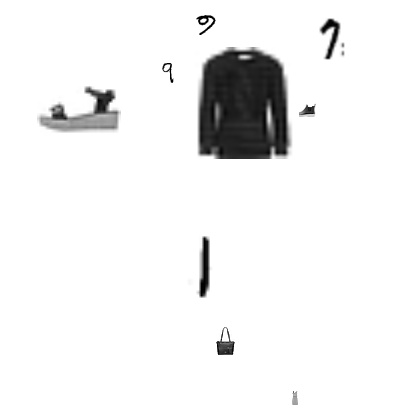1: (161, 225, 245, 309)
7: (302, 7, 358, 63)
9: (191, 8, 219, 36), (154, 57, 182, 85)
Ankle_boot: (294, 99, 316, 121)
Bag: (211, 327, 239, 355)
Dress: (288, 391, 302, 405)
Pullover: (187, 47, 299, 159)
Sandal: (37, 69, 121, 153)
